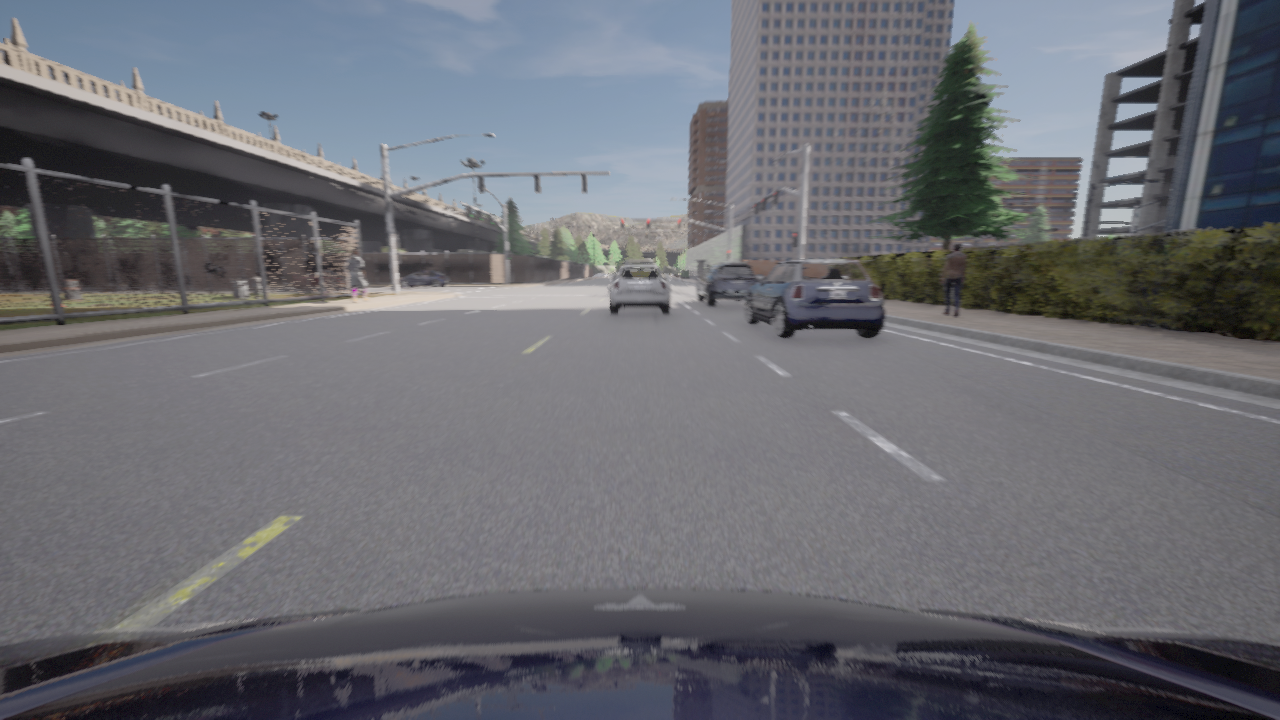cyclist: (0, 588, 1279, 719), (745, 259, 884, 338), (609, 265, 670, 313), (696, 262, 757, 305), (175, 265, 256, 287), (294, 269, 348, 288), (398, 271, 448, 287), (617, 259, 655, 270), (612, 271, 618, 281)
pedestrian: (941, 243, 966, 315), (346, 251, 368, 303)
